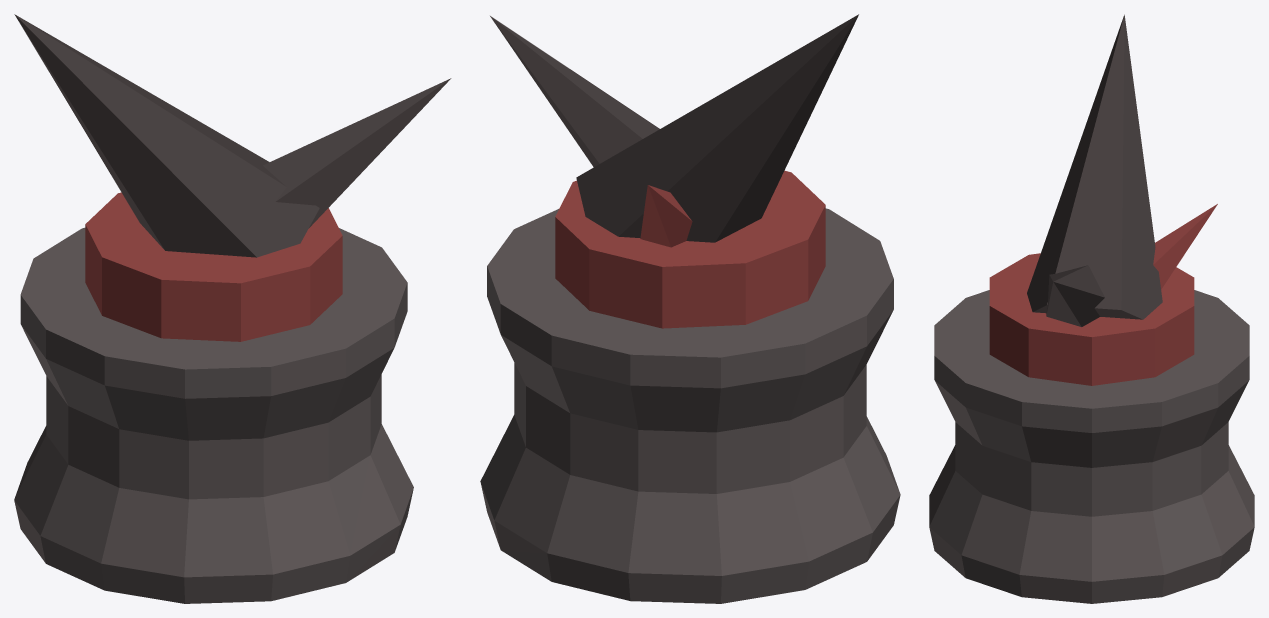
File: void_sculpture_d.obj
The picture shows the model from 3 angles, left to right: view 1: azimuth 30°, elevation 25°; view 2: azimuth 150°, elevation 25°; view 3: azimuth 270°, elevation 25°; orthographic projection. The views are drawn at different scales.
Parts seen in each view (by area): view 1: void_sculpture_d_0, void_sculpture_d_2, void_sculpture_d_1, void_sculpture_d_3; view 2: void_sculpture_d_0, void_sculpture_d_1, void_sculpture_d_2, void_sculpture_d_3, void_sculpture_d_4; view 3: void_sculpture_d_0, void_sculpture_d_2, void_sculpture_d_1, void_sculpture_d_3, void_sculpture_d_4.
Part boxes in pixels (bbox=[...]): void_sculpture_d_0: bbox=[14, 227, 413, 603]; void_sculpture_d_2: bbox=[14, 14, 319, 257]; void_sculpture_d_1: bbox=[85, 192, 342, 341]; void_sculpture_d_3: bbox=[263, 78, 451, 227]; void_sculpture_d_0: bbox=[480, 208, 900, 603]; void_sculpture_d_1: bbox=[555, 170, 825, 328]; void_sculpture_d_2: bbox=[576, 14, 858, 242]; void_sculpture_d_3: bbox=[490, 16, 659, 166]; void_sculpture_d_4: bbox=[640, 185, 692, 247]; void_sculpture_d_0: bbox=[929, 290, 1254, 603]; void_sculpture_d_2: bbox=[1027, 14, 1162, 319]; void_sculpture_d_1: bbox=[989, 253, 1194, 385]; void_sculpture_d_3: bbox=[1046, 265, 1104, 326]; void_sculpture_d_4: bbox=[1153, 204, 1217, 289].
Size of the model in its own units: 0.7049 by 0.9189 by 0.6044.
